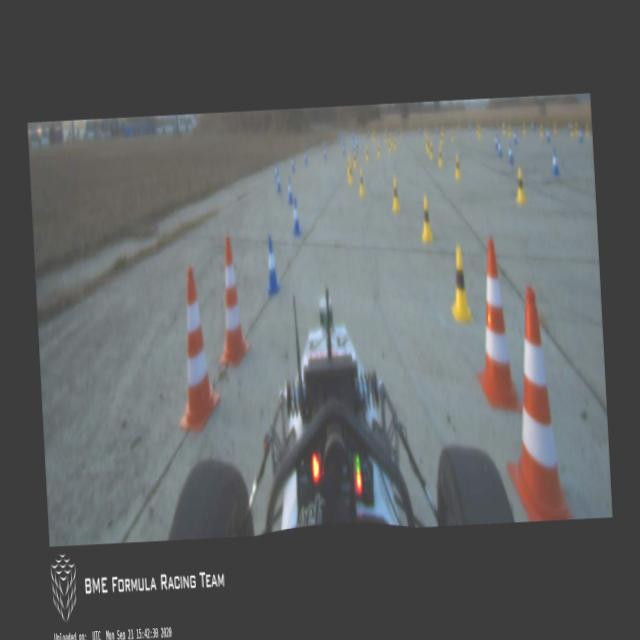blue_cone: (266, 236, 280, 294), (291, 198, 301, 236), (551, 149, 560, 175), (286, 177, 293, 204), (507, 141, 515, 164), (276, 171, 282, 192), (497, 138, 502, 158), (512, 128, 518, 144), (274, 162, 278, 182), (494, 134, 498, 152), (546, 126, 550, 144), (323, 146, 328, 160), (291, 156, 295, 172), (304, 150, 308, 166), (578, 126, 582, 142), (342, 142, 346, 156), (530, 120, 534, 131), (352, 140, 356, 150), (356, 138, 359, 151)
large_orange_cone: (499, 286, 576, 522), (470, 236, 523, 416), (172, 264, 222, 432), (214, 234, 251, 367)
yellow_cone: (449, 247, 472, 323), (420, 195, 433, 242), (516, 167, 526, 205), (390, 178, 400, 212), (358, 170, 366, 196), (454, 154, 462, 180), (436, 146, 444, 168), (347, 161, 354, 184), (346, 156, 352, 176), (364, 145, 370, 164), (585, 119, 590, 140), (570, 121, 576, 138), (352, 150, 357, 169), (429, 142, 434, 160), (376, 142, 381, 159), (553, 120, 558, 136), (426, 138, 430, 156), (439, 130, 444, 144), (388, 139, 392, 155), (478, 124, 482, 140), (575, 120, 579, 136), (451, 128, 455, 142), (540, 124, 544, 138), (502, 122, 506, 135), (508, 125, 512, 138), (522, 122, 526, 134), (394, 136, 397, 152), (390, 134, 393, 146), (442, 125, 445, 136)
